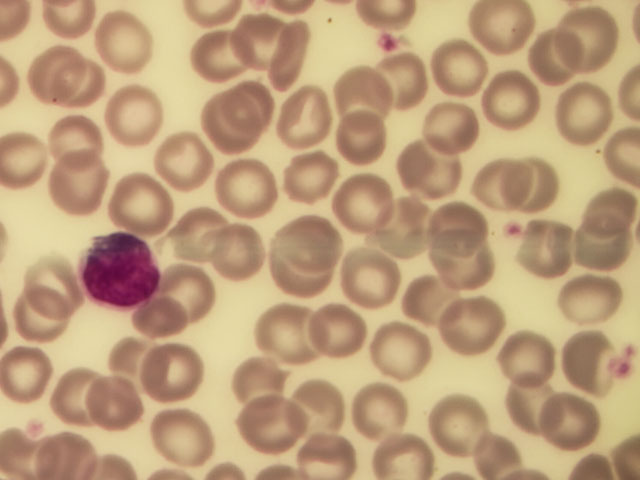Platelets: (614, 344, 636, 381), (379, 28, 402, 56), (505, 217, 521, 239)
RBC: (434, 294, 512, 361), (26, 44, 87, 106), (55, 56, 116, 118), (98, 8, 159, 70), (104, 85, 165, 147), (51, 107, 112, 169), (47, 150, 108, 212), (117, 170, 178, 232), (153, 130, 214, 192), (198, 96, 259, 158), (220, 73, 281, 135), (191, 29, 252, 91), (225, 9, 286, 71), (254, 18, 315, 80), (279, 85, 340, 147), (285, 150, 346, 212), (212, 156, 273, 218), (162, 202, 223, 264), (209, 217, 270, 279), (169, 262, 230, 324), (127, 294, 188, 356), (21, 258, 82, 320), (10, 291, 71, 353), (3, 345, 64, 407), (42, 363, 103, 425), (81, 375, 142, 437), (96, 329, 157, 391), (144, 343, 205, 405), (149, 405, 210, 467), (234, 396, 295, 458), (234, 347, 295, 409), (252, 302, 313, 364), (300, 297, 361, 359), (271, 247, 332, 309), (281, 211, 342, 273), (332, 170, 393, 232), (337, 107, 398, 169), (334, 57, 395, 119), (370, 51, 431, 113), (429, 36, 490, 98), (427, 96, 488, 158), (401, 142, 462, 204), (378, 197, 439, 259), (344, 250, 405, 312), (368, 322, 429, 384), (287, 371, 348, 433), (299, 418, 360, 480), (347, 383, 408, 445), (374, 418, 435, 480), (429, 390, 490, 452), (397, 273, 458, 335), (427, 244, 488, 306), (432, 201, 493, 263), (476, 150, 537, 212), (505, 149, 566, 211), (483, 72, 544, 134), (517, 28, 578, 90), (559, 4, 620, 66), (550, 85, 611, 147), (574, 175, 635, 237), (579, 220, 640, 282), (525, 216, 586, 278), (556, 263, 617, 325), (557, 329, 618, 391), (501, 375, 562, 437), (536, 393, 597, 455), (429, 358, 490, 420), (475, 1, 536, 62), (1, 134, 61, 196), (500, 328, 560, 384)
WBC: (78, 228, 160, 310)
